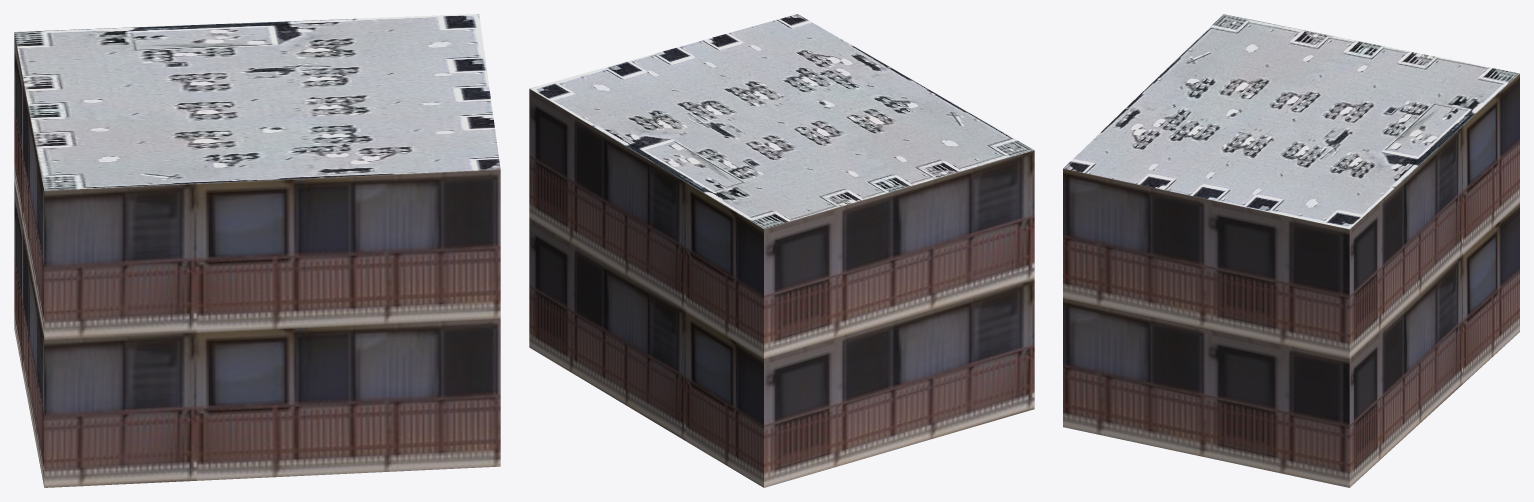
File: ResTex__2077.fbx
3 renders of one model, left to right at view 1: azimuth 30°, elevation 25°; view 2: azimuth 150°, elevation 25°; view 3: azimuth 270°, elevation 25°, orthographic. The views are drawn at different scales.
Parts seen in each view (by area): view 1: CityEngineMaterial_6_m, CityEngineMaterial_4_m; view 2: CityEngineMaterial_6_m, CityEngineMaterial_4_m; view 3: CityEngineMaterial_6_m, CityEngineMaterial_4_m.
Part boxes in pixels (box(x1,y1,x2,y2)): CityEngineMaterial_6_m: box(14, 33, 500, 487); CityEngineMaterial_4_m: box(14, 14, 500, 190); CityEngineMaterial_6_m: box(529, 89, 1034, 487); CityEngineMaterial_4_m: box(529, 14, 1034, 228); CityEngineMaterial_6_m: box(1063, 74, 1519, 487); CityEngineMaterial_4_m: box(1063, 14, 1519, 229).
Bounding box in the file's own units: 10.72 × 6 × 9.6.
Materials: 2 (2 with a texture image).
